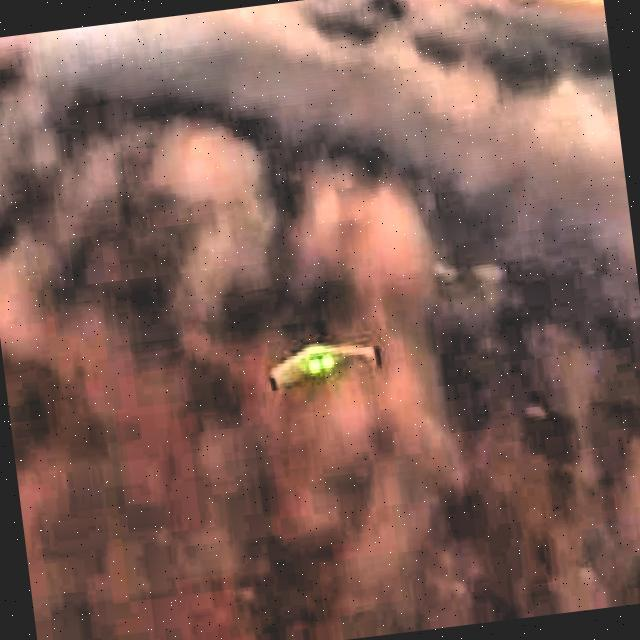iha: (244, 349, 404, 368)
